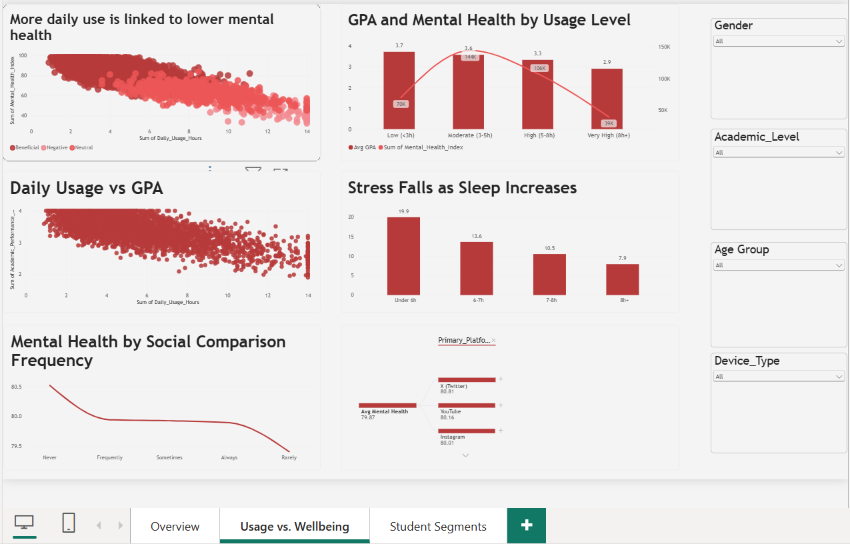

This screenshot's page, from the dashboard's own definition file:
{"tool":"powerbi","page":{"name":"Usage vs. Wellbeing","canvas":[1919,1080],"ordinal":1},"visuals":[{"type":"scatterChart","title":"More daily use is linked to lower mental health","fields":{"Category":["Students.Student_ID"],"Series":["Students.Overall_Impact"],"X":["Sum(Students.Daily_Usage_Hours)"],"Y":["Sum(Students.Mental_Health_Index)"]},"box":[0,0,722,357.4],"z":0},{"type":"scatterChart","title":"Daily Usage vs GPA","fields":{"Category":["Students.Student_ID"],"X":["Sum(Students.Daily_Usage_Hours)"],"Y":["Sum(Students.Academic_Performance_GPA)"]},"box":[0,378.8,722,321.9],"z":1000},{"type":"lineClusteredColumnComboChart","title":"GPA and Mental Health by Usage Level","fields":{"Category":["Students.Usage Band"],"Y":["Students.Avg GPA"],"Y2":["Sum(Students.Mental_Health_Index)"]},"box":[767,0,769.3,357.4],"z":2000},{"type":"clusteredColumnChart","title":"Stress Falls as Sleep Increases","fields":{"Category":["Students.Sleep Band"],"Y":["Students.Avg Stress"]},"box":[767,378.8,769.3,321.9],"z":3000},{"type":"lineChart","title":"Mental Health by Social Comparison Frequency","fields":{"Category":["Students.Social_Comparison_Frequency"],"Y":["Students.Avg Mental Health"]},"box":[2.4,729.1,719.6,329],"z":4000},{"type":"decompositionTreeVisual","fields":{"Analyze":["Students.Avg Mental Health"],"ExplainBy":["Students.Primary_Platform","Students.Sleep Band","Students.Late_Night_Usage","Students.Usage Band"]},"box":[767,729.1,769.3,329],"z":5000},{"type":"slicer","fields":{"Values":["Students.Gender"]},"box":[1607.3,30.8,310.1,229.6],"z":5001},{"type":"slicer","fields":{"Values":["Students.Academic_Level"]},"box":[1607.3,284.1,310.1,229.6],"z":5002},{"type":"slicer","fields":{"Values":["Students.Age Group"]},"box":[1607.3,539.7,310.1,239.1],"z":5003},{"type":"slicer","fields":{"Values":["Students.Device_Type"]},"box":[1607.3,793,310.1,227.3],"z":5004}]}

Visuals, with their boxes on the page's 1919x1080 design canvas (x1, y1, x2, y2). These are canvas units, not pixel positions in the 850x544 screenshot, which may show the page scaled, cropped or inside an application window:
"More daily use is linked to lower mental health" scatterChart: x1=0, y1=0, x2=722, y2=357
"Daily Usage vs GPA" scatterChart: x1=0, y1=379, x2=722, y2=701
"GPA and Mental Health by Usage Level" lineClusteredColumnComboChart: x1=767, y1=0, x2=1536, y2=357
"Stress Falls as Sleep Increases" clusteredColumnChart: x1=767, y1=379, x2=1536, y2=701
"Mental Health by Social Comparison Frequency" lineChart: x1=2, y1=729, x2=722, y2=1058
decompositionTreeVisual - Students.Avg Mental Health x Students.Primary_Platform: x1=767, y1=729, x2=1536, y2=1058
slicer - Students.Gender: x1=1607, y1=31, x2=1917, y2=260
slicer - Students.Academic_Level: x1=1607, y1=284, x2=1917, y2=514
slicer - Students.Age Group: x1=1607, y1=540, x2=1917, y2=779
slicer - Students.Device_Type: x1=1607, y1=793, x2=1917, y2=1020
